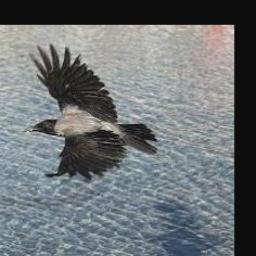Crow: (26, 43, 158, 179)
